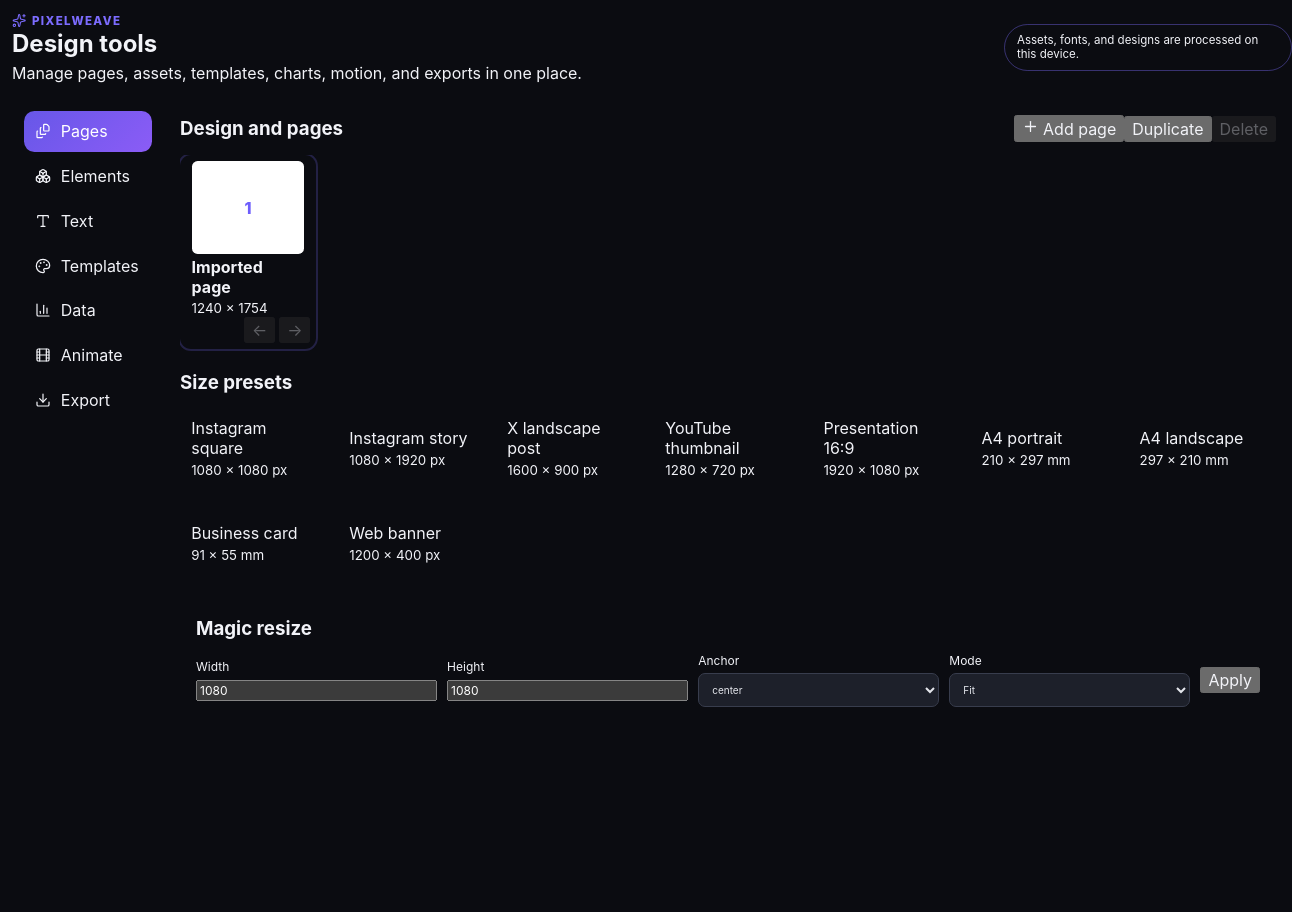
Test: DesignStudioPanel › shows physical page dimensions and resolution warnings before export
Click the button "Export": (88, 400) x1=24 y1=380 x2=152 y2=420
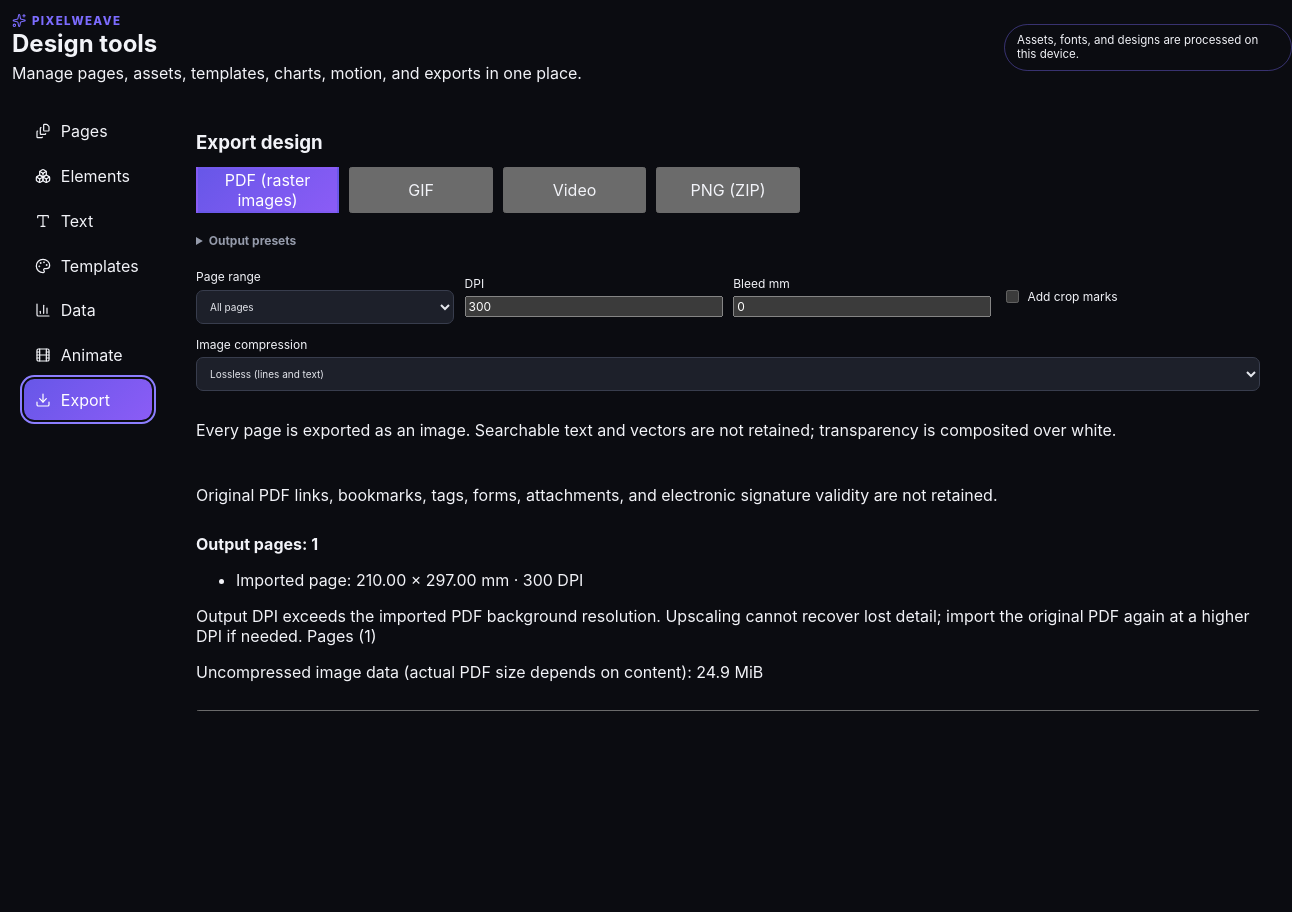
Now the list item "Imported page: 210.00 × 297.00 mm · 300 DPI" is shown, box x1=236 y1=570 x2=583 y2=590
Now the text "Upscaling cannot recover lost detail" is shown, box x1=196 y1=606 x2=1250 y2=646
Replace the text in the number field labelled "DPI" with "601": (594, 307) x1=465 y1=296 x2=723 y2=317
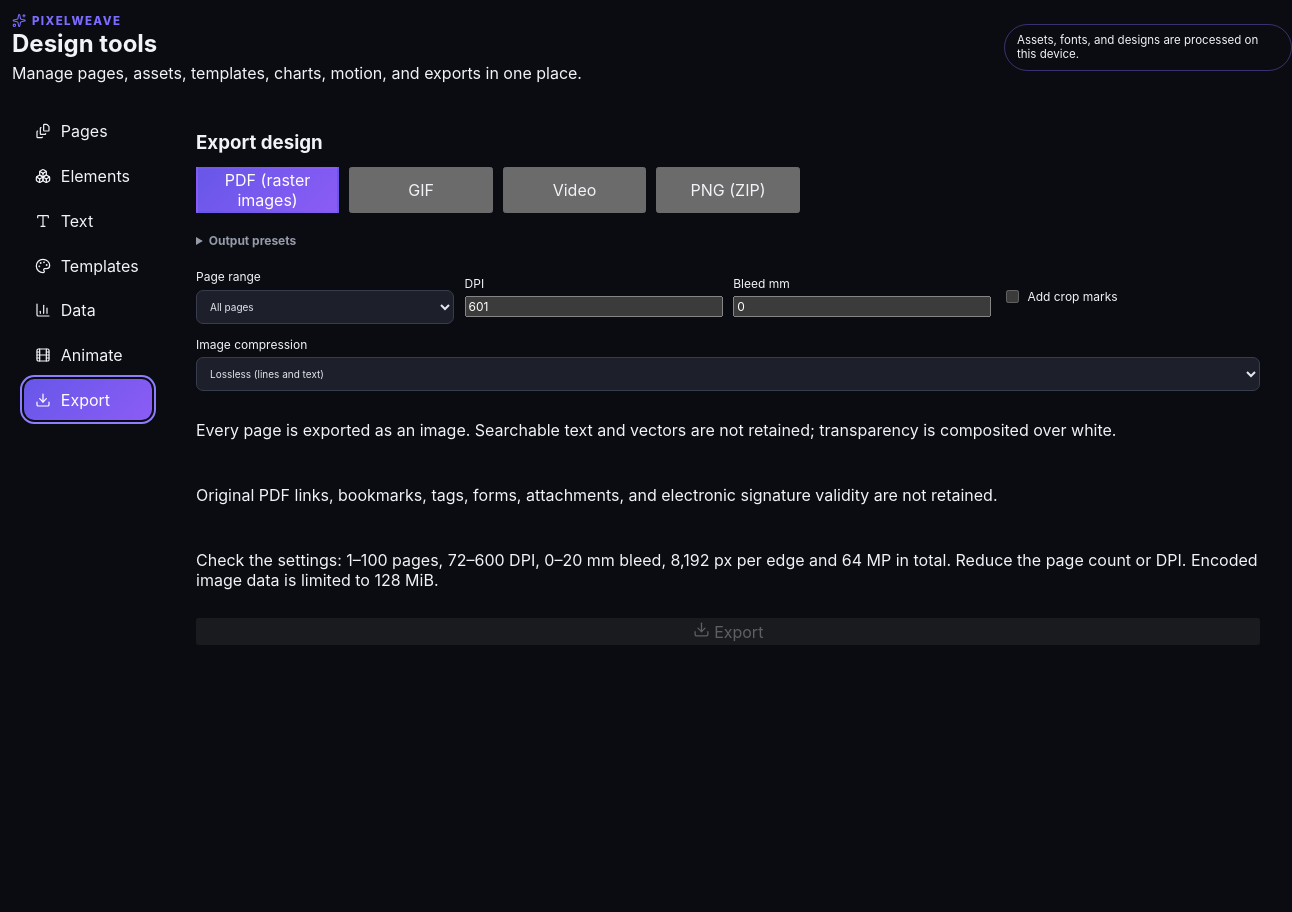
Now the message shows "64 MP", box x1=196 y1=550 x2=1258 y2=590
Now the button "Export" below "Image compression" is disabled, box x1=196 y1=618 x2=1260 y2=645
